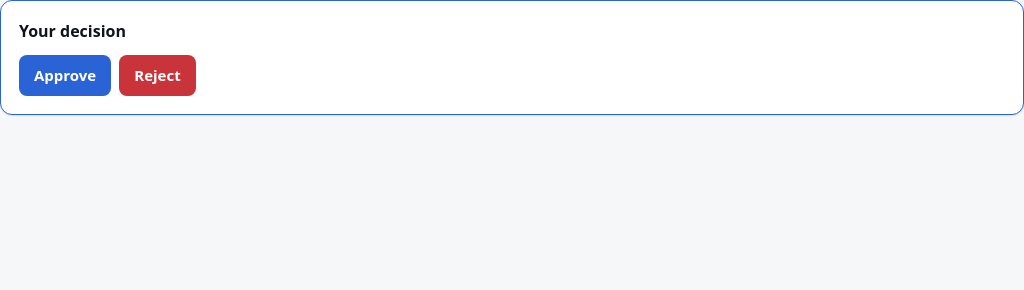
Test case: ActionPanel › requires a reason of at least 10 characters before rejecting
The width and height of the screenshot is (1024, 290).
Later steps or results of the test are not shown.
Click the button "Reject": (158, 75) [119,55,196,96]
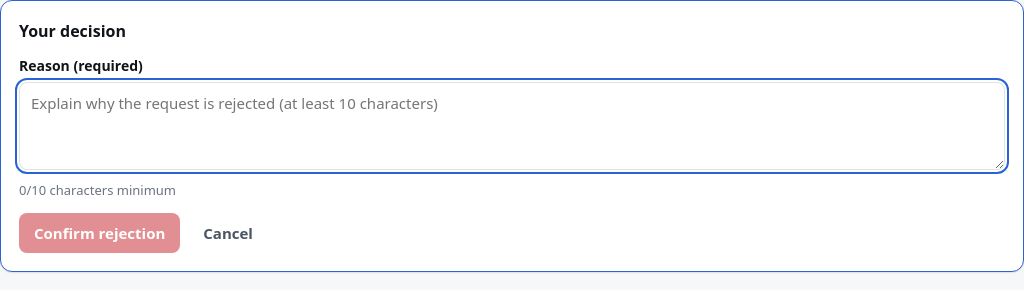
Check: the button "Confirm rejection" is disabled, box [19,212,180,253]
In the text box labelled "Reason (required)": (512, 126) [19,82,1005,170], type "too short"
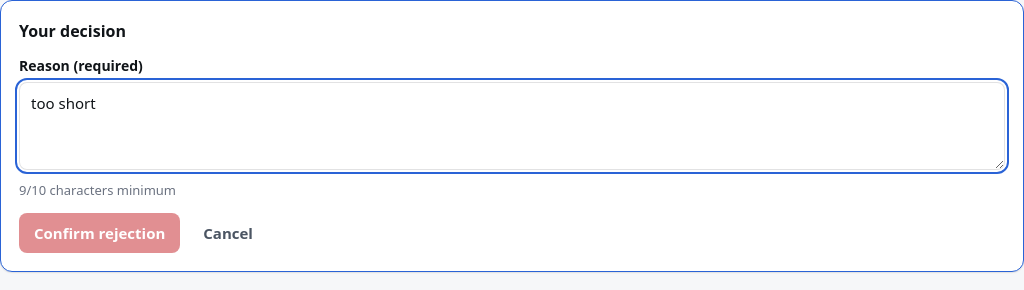
Check: the button "Confirm rejection" is disabled, box [19,212,180,253]
Replace the text in the text box labelled "Reason (required)" with "Budget frozen until Q1.": (512, 126) [19,82,1005,170]
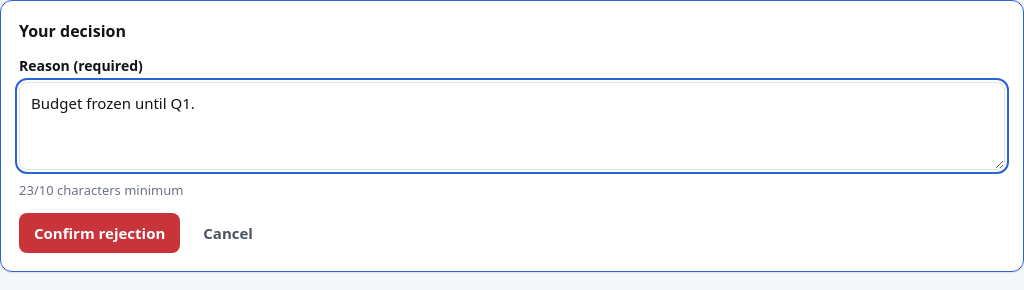
Check: the button "Confirm rejection" is enabled, box [19,212,180,253]
